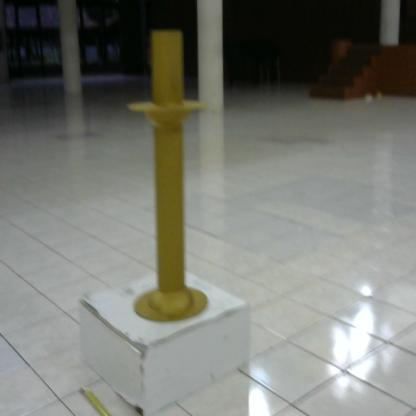pole: (126, 24, 219, 332)
